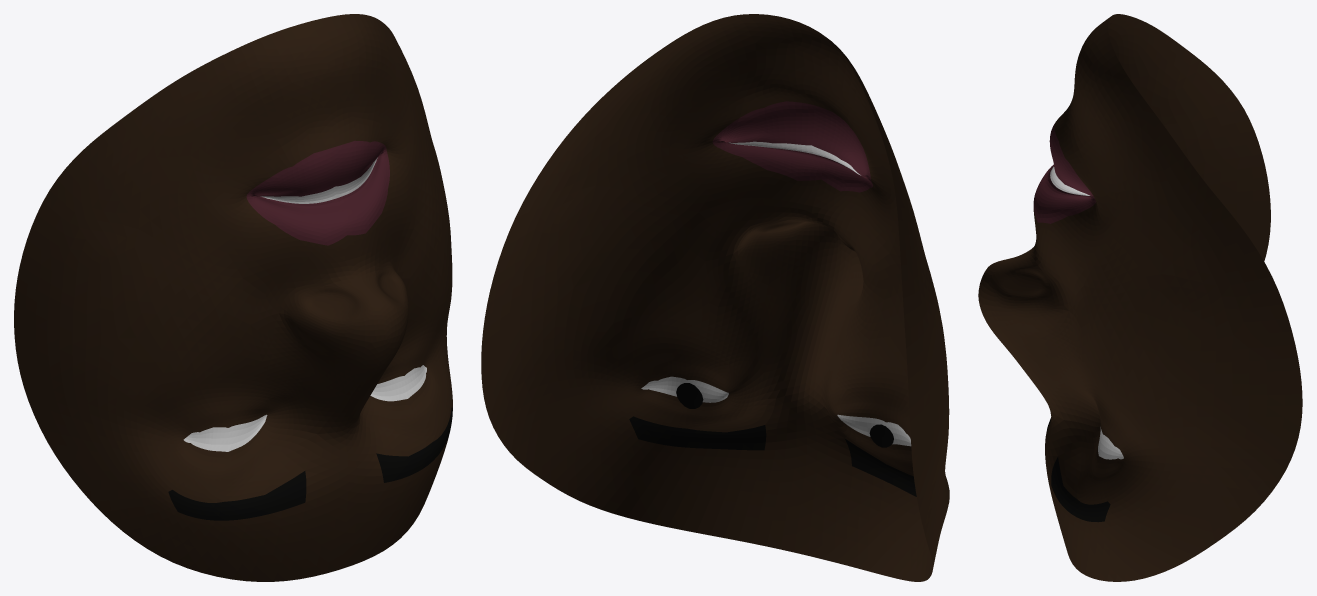
The model's file is worried.obj.
The picture shows the model from 3 angles, left to right: view 1: azimuth 30°, elevation 25°; view 2: azimuth 150°, elevation 25°; view 3: azimuth 270°, elevation 25°; orthographic projection. The views are drawn at different scales.
Visible parts, largest first — view 1: face_mesh_subdivided; view 2: face_mesh_subdivided; view 3: face_mesh_subdivided.
Boxes of the visible parts, x1,y1,x2,y2 form: face_mesh_subdivided: (14, 14, 452, 581); face_mesh_subdivided: (481, 14, 949, 581); face_mesh_subdivided: (978, 14, 1302, 581).
Size of the model in its own units: 0.6136 by 0.7824 by 0.447.
